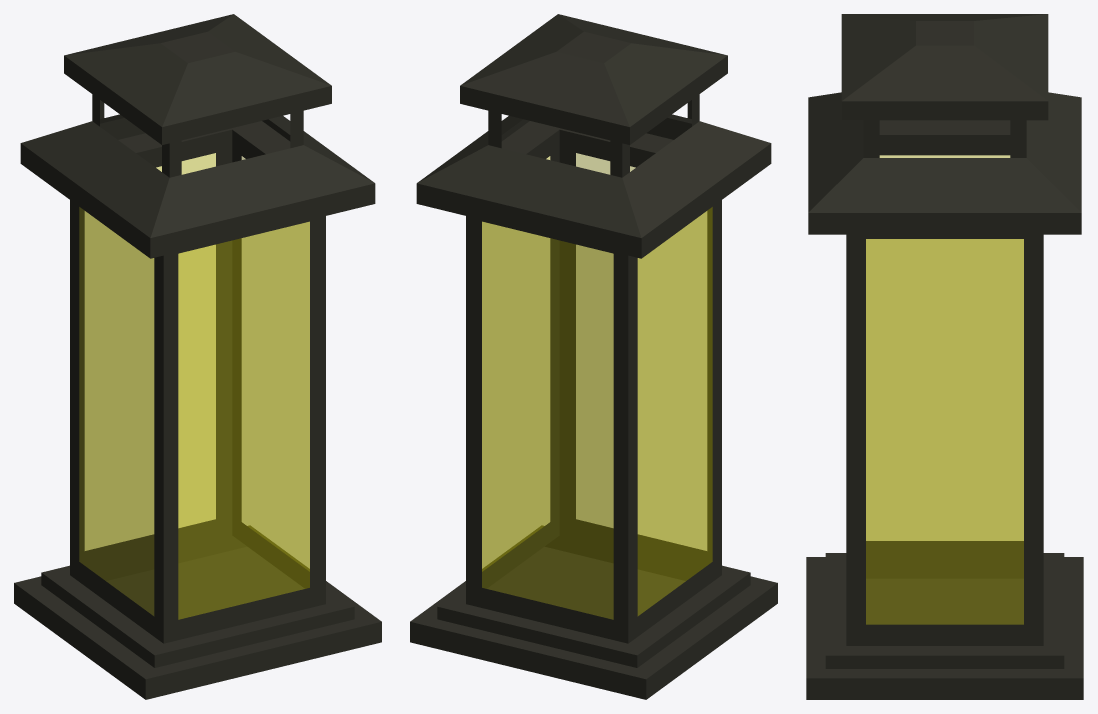
Rendered from Lantern.fbx.
The picture shows the model from 3 angles, left to right: view 1: azimuth 30°, elevation 25°; view 2: azimuth 150°, elevation 25°; view 3: azimuth 270°, elevation 25°; orthographic projection. The views are drawn at different scales.
Parts seen in each view (by area): view 1: Lantern; view 2: Lantern; view 3: Lantern.
Boxes of the visible parts, x1=… form: Lantern: x1=14, y1=14, x2=381, y2=699; Lantern: x1=410, y1=14, x2=777, y2=699; Lantern: x1=806, y1=14, x2=1083, y2=699.
Size of the model in its own units: 1.45 by 3.39 by 1.4.
